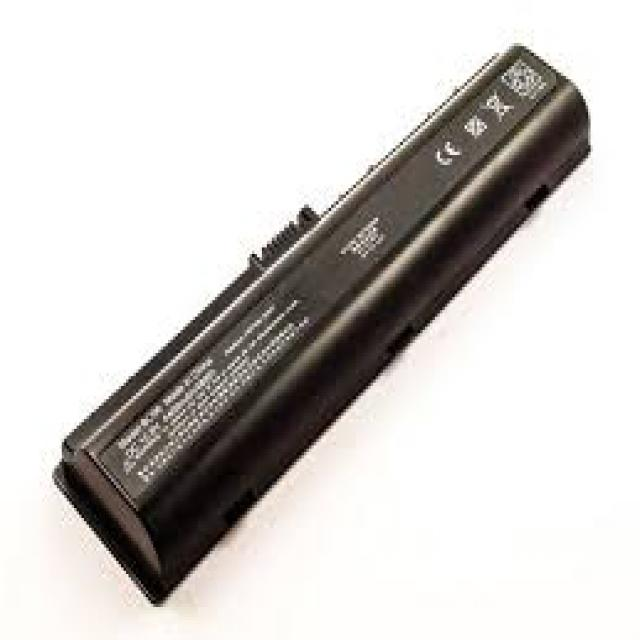non-organic waste: (50, 43, 597, 615)
